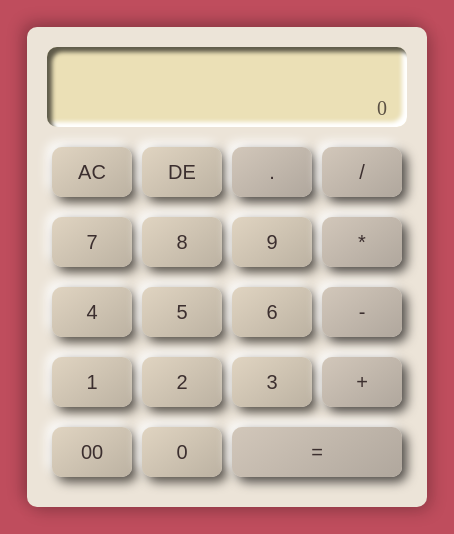
Test: Tests in Calculator component › Should change the result from the result
Click the button "=": click(317, 452) [232, 427, 402, 477]
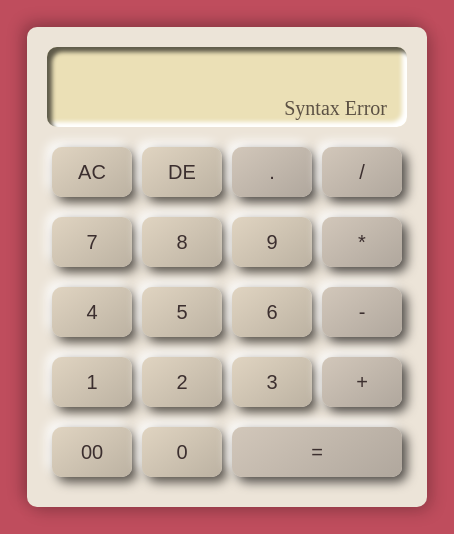
Result: the text with test id "test-result" reads "Syntax Error" at [284, 97, 387, 119]
